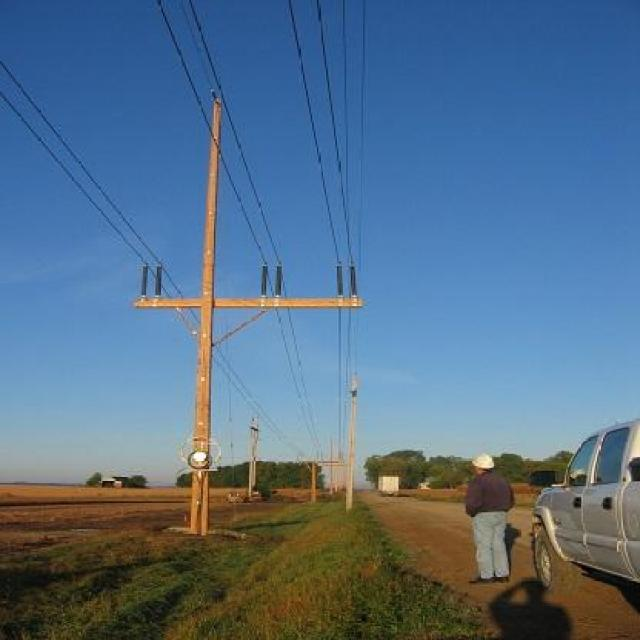pole: (148, 86, 357, 525)
